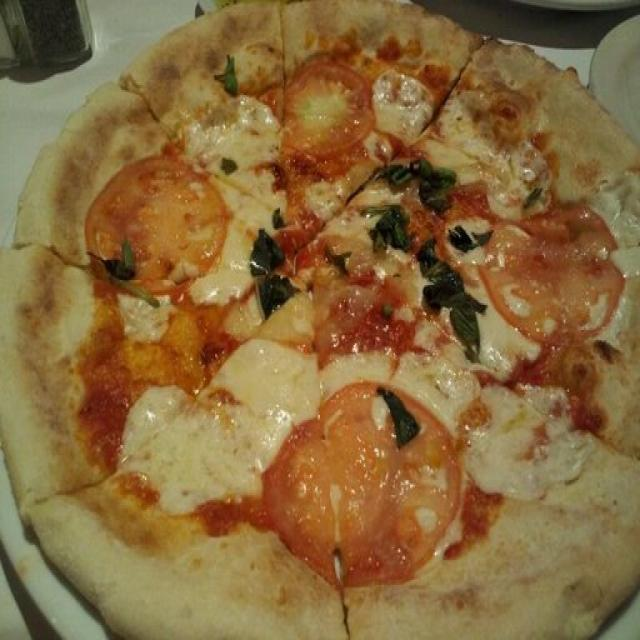Basil: (416, 238, 485, 364), (249, 209, 300, 318), (380, 158, 454, 212), (376, 384, 420, 451), (366, 202, 410, 261), (441, 220, 492, 252), (104, 241, 135, 284), (219, 53, 239, 97)
Pizza: (0, 1, 640, 640)
Tomato: (267, 385, 466, 588), (483, 207, 626, 348), (84, 160, 228, 292), (278, 56, 371, 156)
